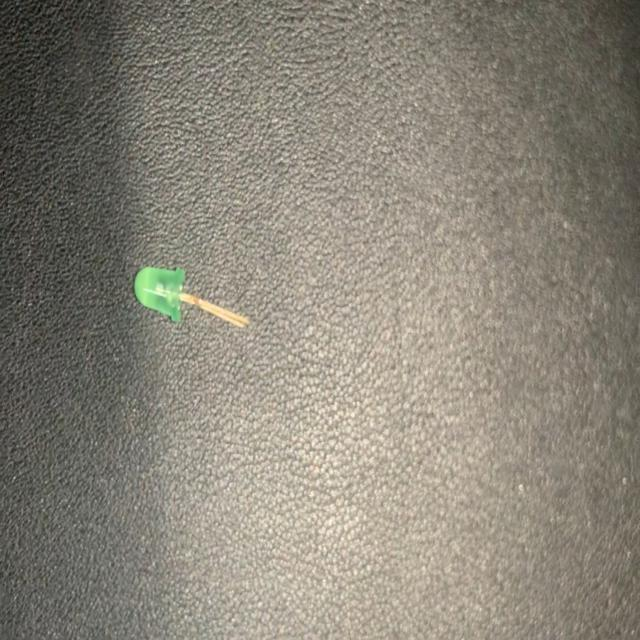LED: (131, 262, 250, 340)
